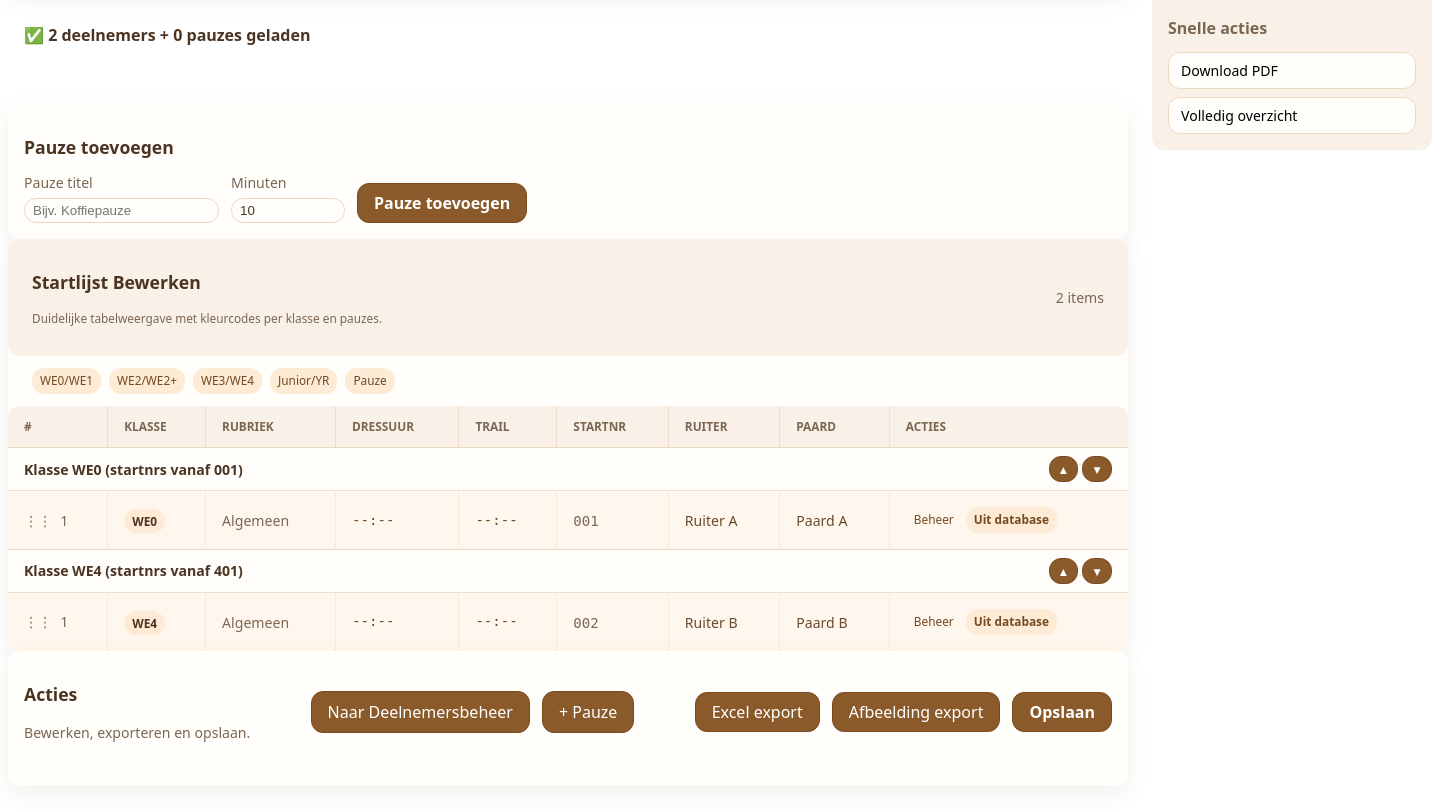
Scenario: shows a failed save without a success notification
(page scrolled)
Click the button "Opslaan" at (1062, 712), box [1012,692,1112,732]
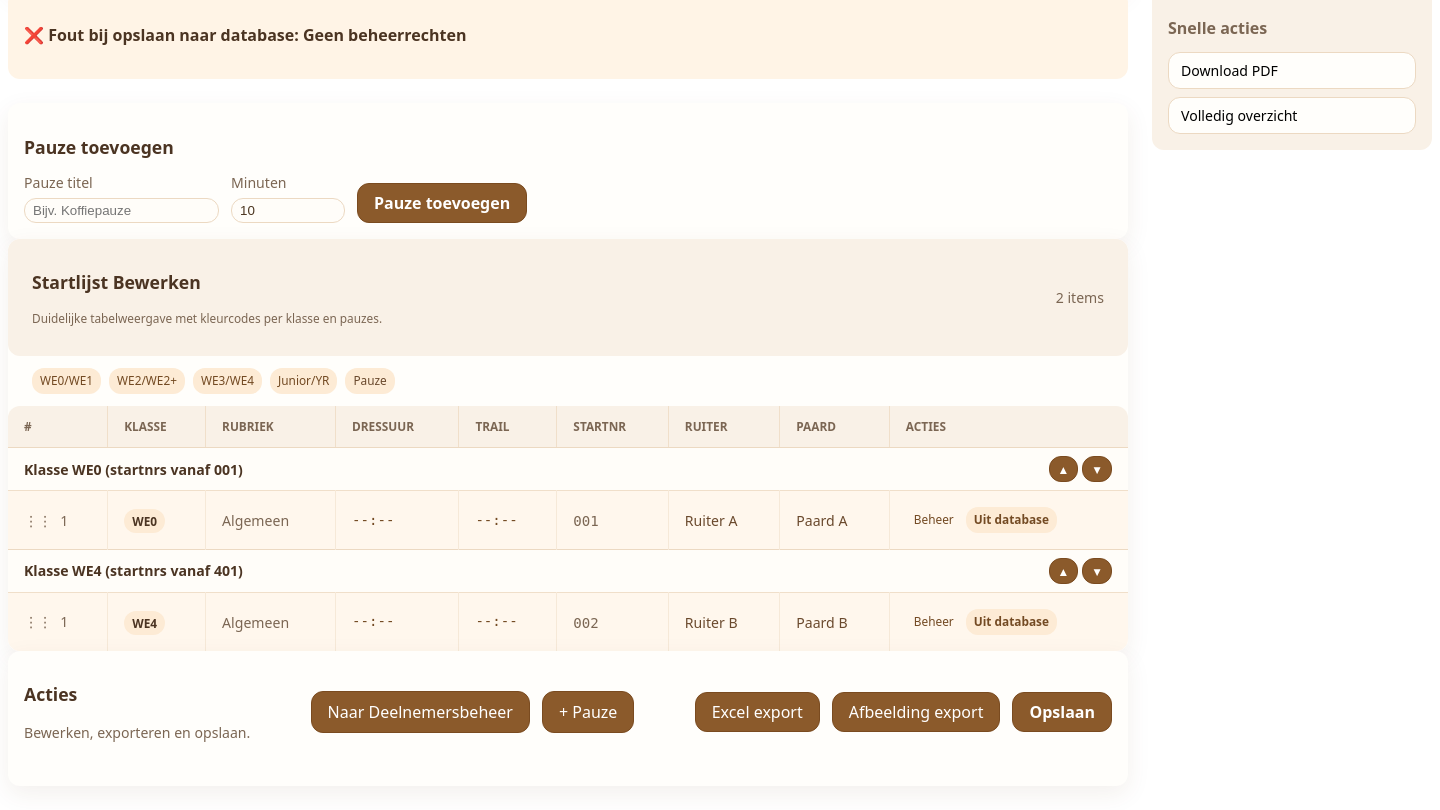
Expected: the text "Geen beheerrechten" is shown, [24,24,466,46]
